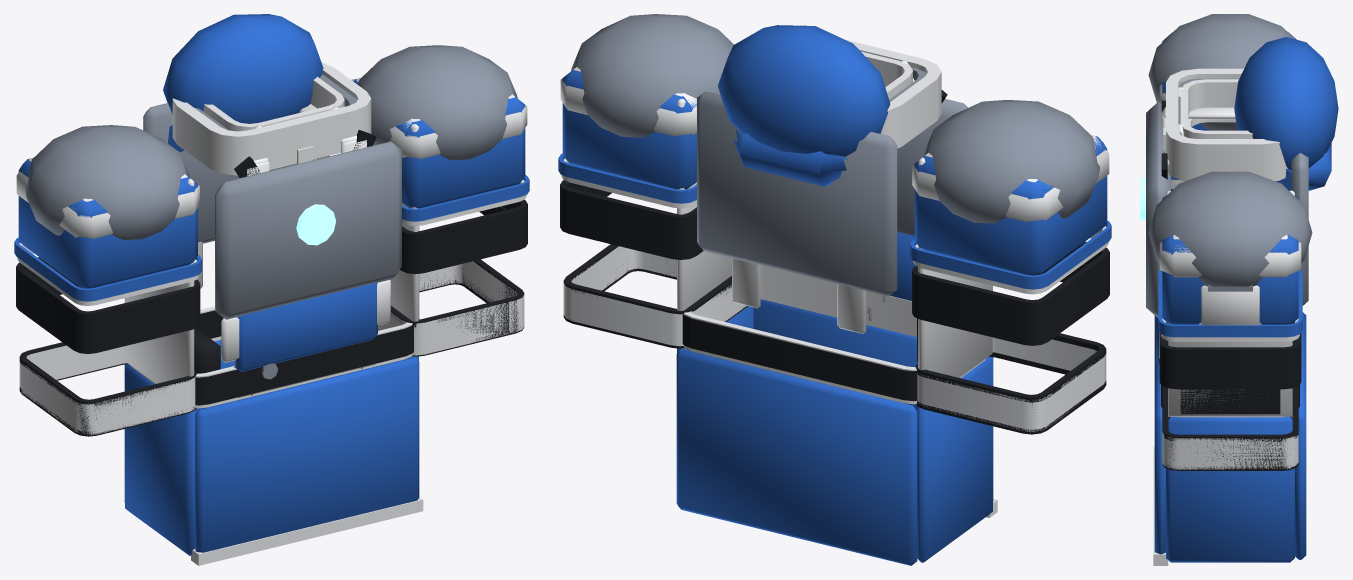
File: Chaquetas.fbx
3 views of the same model, side by side, from view 1: azimuth 30°, elevation 25°; view 2: azimuth 150°, elevation 25°; view 3: azimuth 270°, elevation 25° (orthographic). The views are drawn at different scales.
Parts seen in each view (by area): view 1: Chaqueta_Abrigo__Torso__Chaqueta, Chaqueta_Armadura__Torso__Metal, Chaqueta_Sudadera__Torso__Chaqueta, Chaqueta_Armadura__BrazoD__Metal, Chaqueta_Armadura__BrazoI__Metal, Chaqueta_Abrigo__Torso__Detalle, Chaqueta_Camisa__BrazoD__Chaqueta, Chaqueta_Armadura__BrazoD__Oscuro, Chaqueta_Camisa__BrazoI__Chaqueta, Chaqueta_Armadura__Torso__Oscuro, Chaqueta_Chaleco__Torso__Detalle, Chaqueta_Armadura__BrazoI__Oscuro (+18 smaller); view 2: Chaqueta_Abrigo__Torso__Chaqueta, Chaqueta_Armadura__Torso__Metal, Chaqueta_Sudadera__Torso__Chaqueta, Chaqueta_Armadura__BrazoD__Metal, Chaqueta_Armadura__BrazoI__Metal, Chaqueta_Camisa__BrazoD__Chaqueta, Chaqueta_Armadura__BrazoD__Oscuro, Chaqueta_Camisa__BrazoI__Chaqueta, Chaqueta_Armadura__Torso__Oscuro, Chaqueta_Exploradora__BrazoD__Detalle, Chaqueta_Armadura__BrazoI__Oscuro, Chaqueta_Cazadora__Torso__Detalle (+14 smaller); view 3: Chaqueta_Abrigo__Torso__Chaqueta, Chaqueta_Armadura__BrazoI__Metal, Chaqueta_Sudadera__Torso__Chaqueta, Chaqueta_Camisa__BrazoI__Chaqueta, Chaqueta_Abrigo__Torso__Detalle, Chaqueta_Armadura__BrazoI__Oscuro, Chaqueta_Armadura__BrazoD__Metal, Chaqueta_Armadura__Torso__Metal, Chaqueta_Cazadora__BrazoI__Detalle, Chaqueta_Abrigo__BrazoI__Detalle, Chaqueta_Piloto__BrazoI__Oscuro, Chaqueta_Armadura__Torso__Oscuro (+9 smaller).
Part boxes in pixels (x1=…): Chaqueta_Abrigo__Torso__Chaqueta: x1=124, y1=340, x2=419, y2=555; Chaqueta_Armadura__Torso__Metal: x1=143, y1=74, x2=401, y2=319; Chaqueta_Sudadera__Torso__Chaqueta: x1=163, y1=14, x2=377, y2=371; Chaqueta_Armadura__BrazoD__Metal: x1=25, y1=125, x2=189, y2=240; Chaqueta_Armadura__BrazoI__Metal: x1=358, y1=45, x2=517, y2=160; Chaqueta_Abrigo__Torso__Detalle: x1=172, y1=62, x2=423, y2=565; Chaqueta_Camisa__BrazoD__Chaqueta: x1=14, y1=157, x2=201, y2=301; Chaqueta_Armadura__BrazoD__Oscuro: x1=16, y1=257, x2=200, y2=353; Chaqueta_Camisa__BrazoI__Chaqueta: x1=353, y1=79, x2=529, y2=221; Chaqueta_Armadura__Torso__Oscuro: x1=195, y1=310, x2=413, y2=405; Chaqueta_Chaleco__Torso__Detalle: x1=124, y1=79, x2=419, y2=383; Chaqueta_Armadura__BrazoI__Oscuro: x1=400, y1=199, x2=527, y2=274; Chaqueta_Abrigo__Torso__Chaqueta: x1=676, y1=299, x2=993, y2=565; Chaqueta_Armadura__Torso__Metal: x1=697, y1=67, x2=967, y2=296; Chaqueta_Sudadera__Torso__Chaqueta: x1=718, y1=25, x2=915, y2=300; Chaqueta_Armadura__BrazoD__Metal: x1=923, y1=100, x2=1099, y2=223; Chaqueta_Armadura__BrazoI__Metal: x1=571, y1=14, x2=734, y2=137; Chaqueta_Camisa__BrazoD__Chaqueta: x1=910, y1=136, x2=1111, y2=289; Chaqueta_Armadura__BrazoD__Oscuro: x1=912, y1=241, x2=1109, y2=345; Chaqueta_Camisa__BrazoI__Chaqueta: x1=558, y1=69, x2=696, y2=203; Chaqueta_Armadura__Torso__Oscuro: x1=682, y1=314, x2=917, y2=401; Chaqueta_Exploradora__BrazoD__Detalle: x1=917, y1=337, x2=1106, y2=429; Chaqueta_Armadura__BrazoI__Oscuro: x1=560, y1=180, x2=703, y2=259; Chaqueta_Cazadora__Torso__Detalle: x1=684, y1=265, x2=985, y2=404; Chaqueta_Abrigo__Torso__Chaqueta: x1=1154, y1=312, x2=1306, y2=562; Chaqueta_Armadura__BrazoI__Metal: x1=1148, y1=171, x2=1312, y2=286; Chaqueta_Sudadera__Torso__Chaqueta: x1=1156, y1=37, x2=1338, y2=364; Chaqueta_Camisa__BrazoI__Chaqueta: x1=1158, y1=190, x2=1302, y2=337; Chaqueta_Abrigo__Torso__Detalle: x1=1153, y1=68, x2=1287, y2=565; Chaqueta_Armadura__BrazoI__Oscuro: x1=1159, y1=333, x2=1301, y2=389; Chaqueta_Armadura__BrazoD__Metal: x1=1148, y1=14, x2=1294, y2=130; Chaqueta_Armadura__Torso__Metal: x1=1146, y1=78, x2=1308, y2=317; Chaqueta_Cazadora__BrazoI__Detalle: x1=1168, y1=285, x2=1298, y2=468; Chaqueta_Abrigo__BrazoI__Detalle: x1=1162, y1=390, x2=1296, y2=466; Chaqueta_Piloto__BrazoI__Oscuro: x1=1162, y1=322, x2=1298, y2=470; Chaqueta_Armadura__Torso__Oscuro: x1=1161, y1=385, x2=1299, y2=414.
Bounding box in the file's own units: 1.21 × 1.16 × 0.4466.
